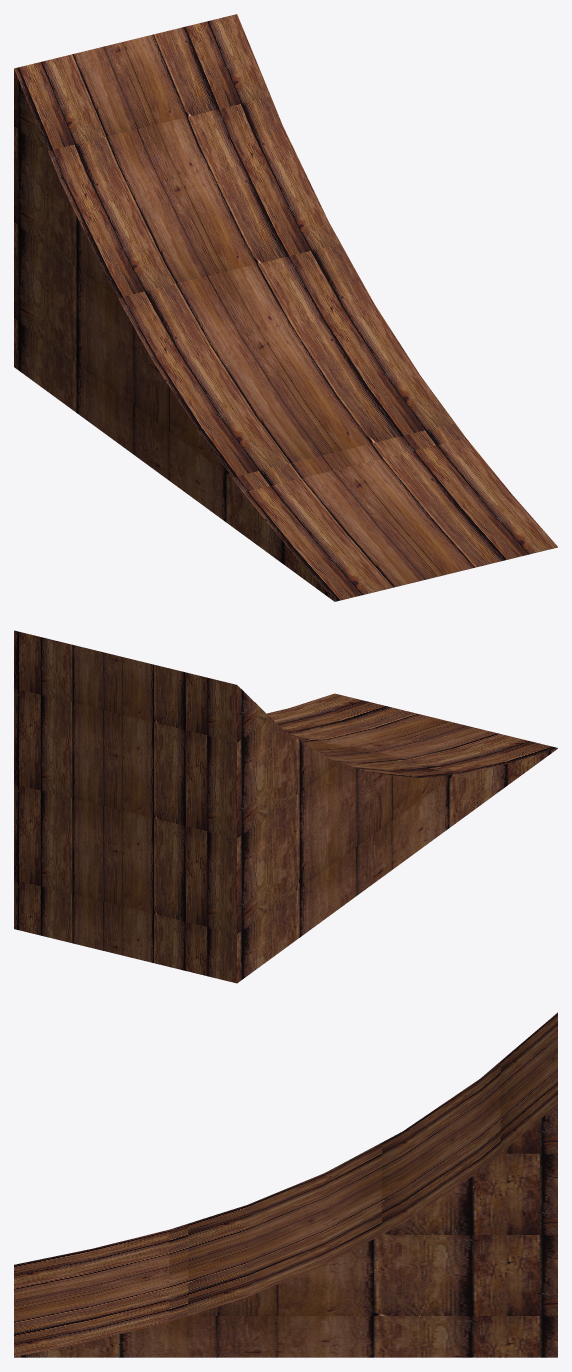
Rendered from Modle_Spring_platform.FBX.
3 views of the same model, one above another, from view 1: azimuth 30°, elevation 25°; view 2: azimuth 150°, elevation 25°; view 3: azimuth 270°, elevation 25° (orthographic). The views are drawn at different scales.
Parts seen in each view (by area): view 1: Box _LOD0; view 2: Box _LOD0; view 3: Box _LOD0.
Part boxes in pixels (box(x1,y1,x2,y2)): Box _LOD0: box(14, 14, 557, 601); Box _LOD0: box(14, 630, 557, 983); Box _LOD0: box(14, 1012, 557, 1357).
Size of what is drawn, in the model's own units: 70 by 89.5 by 174.
1 material, 1 textured.
